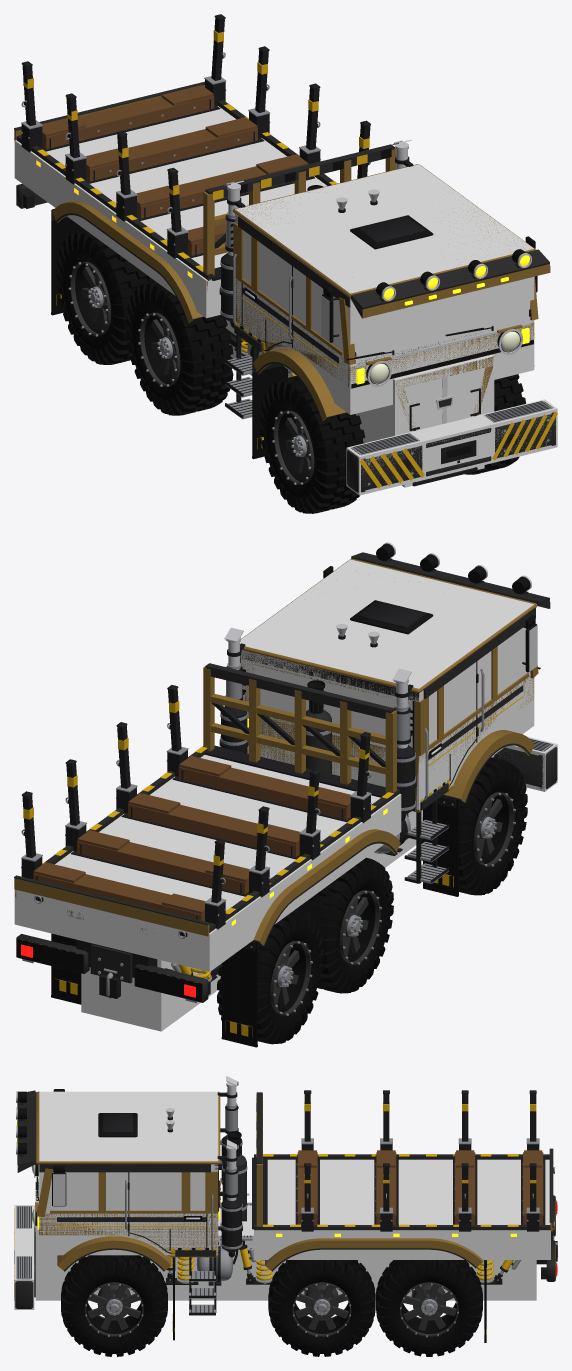
The model's file is Hauler.fbx.
3 views of the same model, one above another, from view 1: azimuth 30°, elevation 25°; view 2: azimuth 150°, elevation 25°; view 3: azimuth 270°, elevation 25° (orthographic). The views are drawn at different scales.
Visible parts, largest first — view 1: COL_Cab, Deck, Cab, COL_Deck, Wheel_MR, Wheel_FR, Wheel_RR, Fenders, Bumper_F, COL_Hood, COL_Bumper, COL_Chassis (+3 smaller); view 2: Deck, COL_Cab, COL_Deck, Cab, Fenders, Wheel_MR, Wheel_FR, Wheel_RR, Stacks, COL_Chassis, Chassis, Bumper_F; view 3: COL_Cab, COL_Deck, Deck, Cab, Wheel_FL, Wheel_ML, Wheel_RL, COL_Chassis, Fenders, Stacks, Bumper_F, COL_Bumper (+2 smaller).
Boxes of the visible parts, x1,y1,x2,y2 form: COL_Cab: (235, 164, 534, 414); Deck: (14, 14, 396, 290); Cab: (225, 164, 550, 419); COL_Deck: (14, 106, 326, 318); Wheel_MR: (126, 280, 233, 415); Wheel_FR: (260, 376, 365, 513); Wheel_RR: (56, 229, 153, 364); Fenders: (51, 201, 534, 459); Bumper_F: (347, 401, 557, 492); COL_Hood: (355, 354, 494, 438); COL_Bumper: (346, 399, 557, 495); COL_Chassis: (222, 317, 484, 487); Deck: (14, 663, 399, 1003); COL_Cab: (240, 559, 534, 809); COL_Deck: (14, 755, 401, 971); Cab: (240, 542, 550, 883); Fenders: (51, 730, 534, 1047); Wheel_MR: (297, 857, 393, 993); Wheel_FR: (421, 757, 527, 895); Wheel_RR: (217, 908, 324, 1044); Stacks: (219, 627, 416, 821); COL_Chassis: (81, 810, 422, 1031); Chassis: (76, 939, 157, 998); Bumper_F: (493, 738, 557, 789); COL_Cab: (39, 1091, 218, 1255); COL_Deck: (254, 1159, 550, 1259); Deck: (219, 1090, 556, 1281); Cab: (16, 1089, 220, 1315); Wheel_FL: (61, 1255, 167, 1356); Wheel_ML: (268, 1260, 375, 1356); Wheel_RL: (376, 1260, 482, 1356); COL_Chassis: (35, 1205, 536, 1300); Fenders: (57, 1236, 487, 1342); Stacks: (217, 1076, 249, 1257); Bumper_F: (14, 1206, 35, 1308); COL_Bumper: (14, 1205, 34, 1309).
Size of what is drawn, in the model's own units: 2.61 by 3.24 by 7.6.
